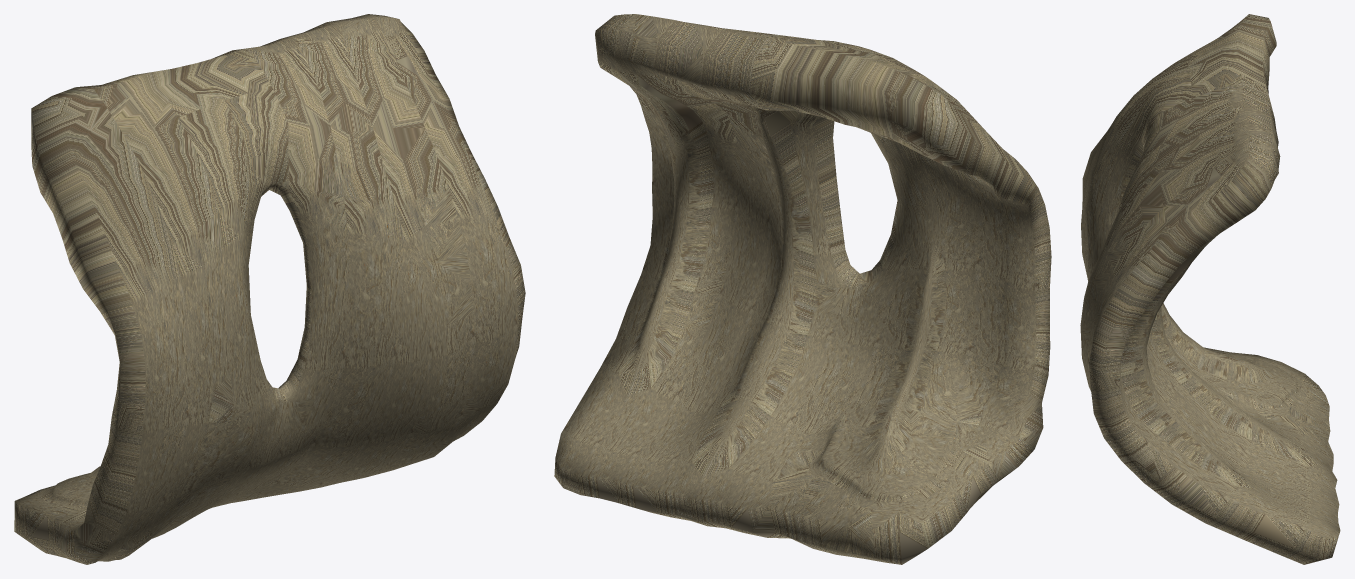
Rendered from saltmine_side_02_hole.dae.
3 renders of one model, left to right at view 1: azimuth 30°, elevation 25°; view 2: azimuth 150°, elevation 25°; view 3: azimuth 270°, elevation 25°, orthographic. The views are drawn at different scales.
Visible parts, largest first — view 1: side_ribbed_02_hole; view 2: side_ribbed_02_hole; view 3: side_ribbed_02_hole.
Boxes of the visible parts, x1,y1,x2,y2 form: side_ribbed_02_hole: (14,14,525,564); side_ribbed_02_hole: (554,14,1051,564); side_ribbed_02_hole: (1080,14,1340,564).
Size of the model in its own units: 9.36 by 10.33 by 5.78.
